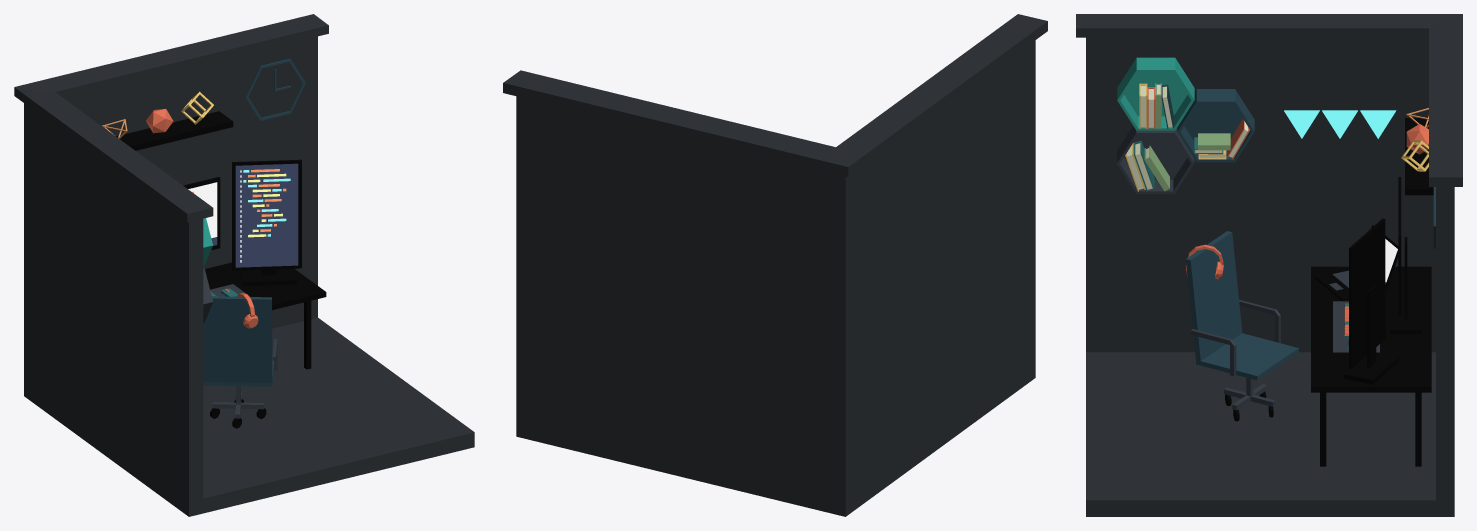
The model's file is gameRoom.glb.
The picture shows the model from 3 angles, left to right: view 1: azimuth 30°, elevation 25°; view 2: azimuth 150°, elevation 25°; view 3: azimuth 270°, elevation 25°; orthographic projection. The views are drawn at different scales.
Visible parts, largest first — view 1: Cube.004, roof, Cube.036, Cube.029, Cube.006, Cube.023, Cube.019, Cube.022, Cube.016, Cylinder.007, Cube.012; view 2: Cube.004, roof; view 3: Cube.004, roof, Cube.006, Cube.029, Cube.019, Cylinder.004, Cylinder.005, Cylinder.006, darkerLight, Cube.023, Cube.022, Cube.018 (+12 smaller).
Boxes of the visible parts, bbox=[...] form: Cube.004: bbox=[24, 36, 474, 516]; roof: bbox=[14, 14, 328, 222]; Cube.036: bbox=[235, 163, 298, 267]; Cube.029: bbox=[203, 296, 273, 386]; Cube.006: bbox=[205, 262, 326, 310]; Cube.023: bbox=[116, 111, 233, 150]; Cube.019: bbox=[232, 159, 301, 270]; Cube.022: bbox=[240, 268, 296, 286]; Cube.016: bbox=[188, 182, 217, 245]; Cylinder.007: bbox=[245, 58, 305, 120]; Cube.012: bbox=[304, 301, 311, 369]; Cube.004: bbox=[516, 40, 1035, 516]; roof: bbox=[503, 14, 1047, 176]; Cube.004: bbox=[1086, 37, 1454, 516]; roof: bbox=[1076, 14, 1462, 186]; Cube.006: bbox=[1311, 266, 1431, 392]; Cube.029: bbox=[1185, 231, 1298, 380]; Cube.019: bbox=[1349, 218, 1385, 368]; Cylinder.004: bbox=[1117, 57, 1194, 130]; Cylinder.005: bbox=[1177, 89, 1254, 162]; Cylinder.006: bbox=[1117, 126, 1194, 193]; darkerLight: bbox=[1284, 110, 1396, 138]; Cube.023: bbox=[1405, 118, 1433, 195]; Cube.022: bbox=[1344, 352, 1398, 384]; Cube.018: bbox=[1390, 304, 1421, 334].
Size of the model in its own units: 2.1 by 2.06 by 2.1.
